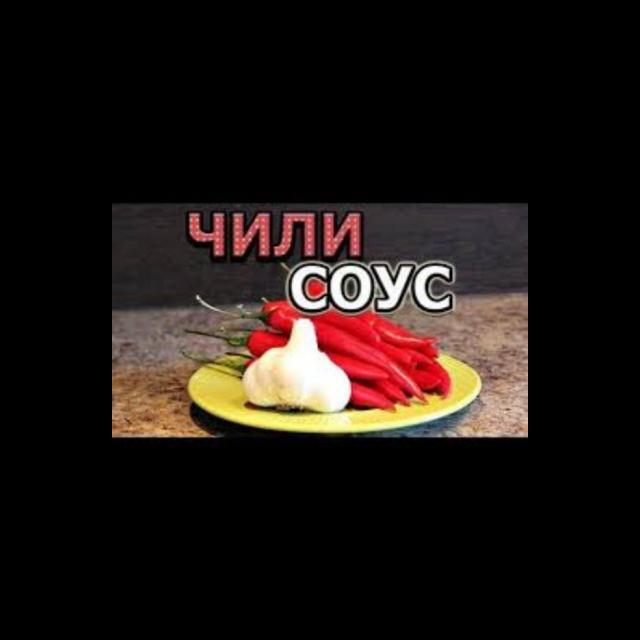garlic: (234, 318, 354, 409)
